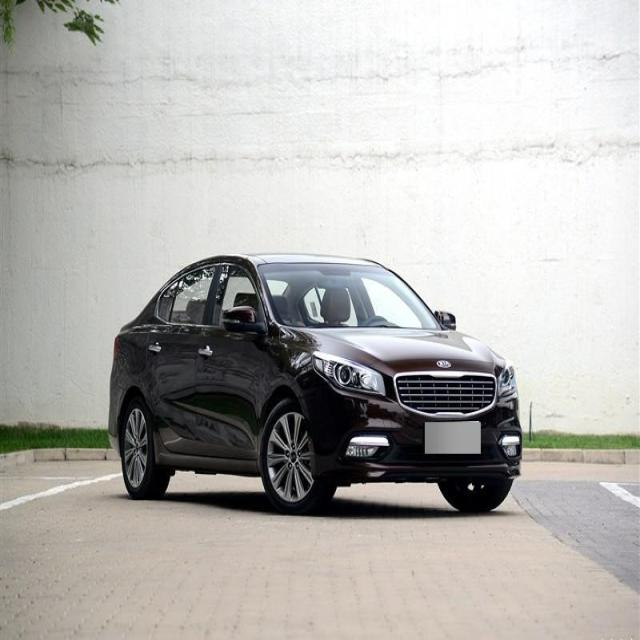back_right_side_light: (113, 335, 121, 360)
door: (152, 261, 218, 453)
front_bumper: (297, 387, 523, 478)
front_glass: (256, 262, 442, 332)
front_left_side_light: (496, 364, 520, 399)
front_left_side_mirror: (434, 308, 457, 330)
front_right_side_door: (192, 257, 262, 463)
front_right_side_light: (311, 349, 388, 398)
front_right_side_mirror: (222, 306, 266, 336)
rear_bumper: (106, 360, 129, 453)
wheel: (260, 398, 323, 510), (119, 396, 159, 496), (434, 478, 514, 512)
